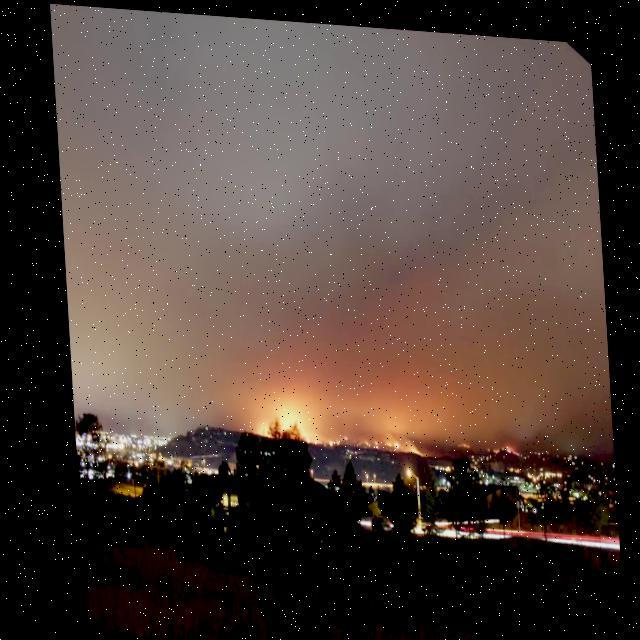Fire: (266, 397, 303, 427), (301, 424, 344, 443), (250, 417, 266, 433), (358, 431, 374, 443), (382, 432, 396, 444), (502, 437, 514, 448), (452, 434, 465, 442)
